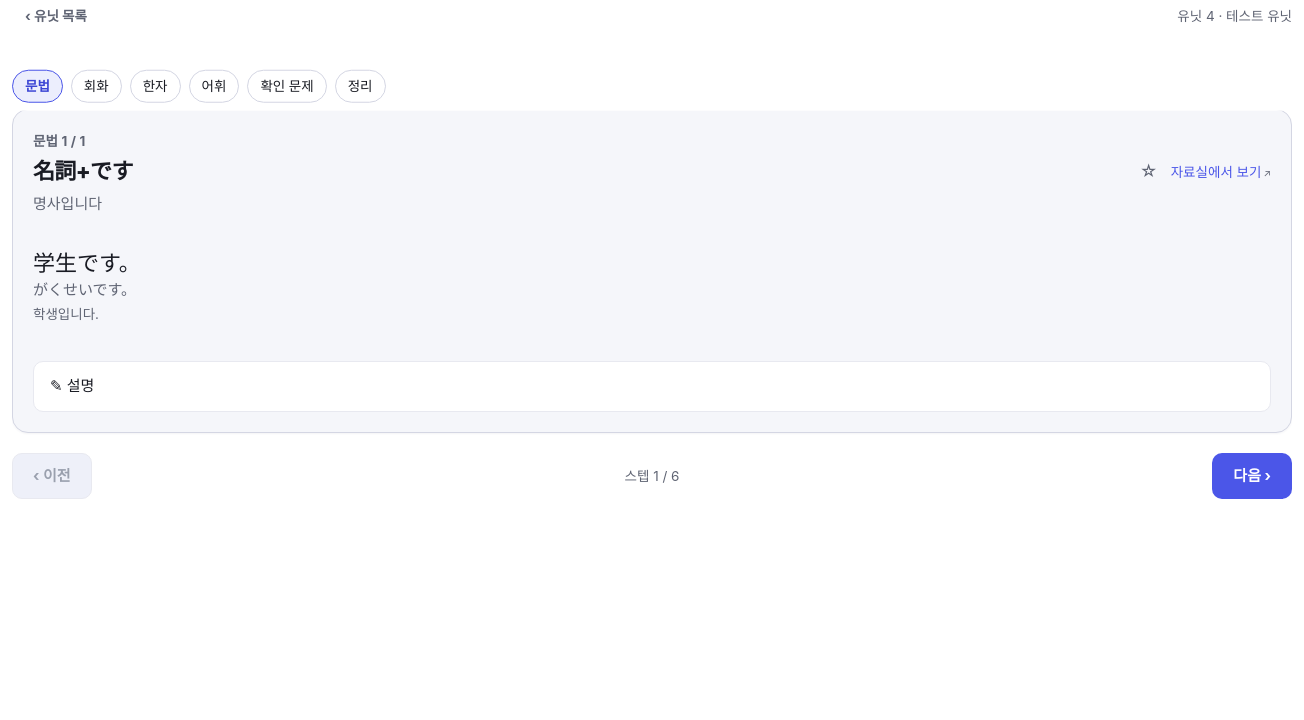
Scenario: [다음 ›]만 눌러서 확인 문제에 닿는다 (AC-Q-1 · AC-Q-4) › 1번 스텝에서 [다음 ›]만 누르면 확인 문제 시작 화면이 나온다
Expected: the button "정리" is shown, [335,70,386,102]
Click the button "다음 ›". click: point(1252, 476)
box: [1212,453,1292,499]
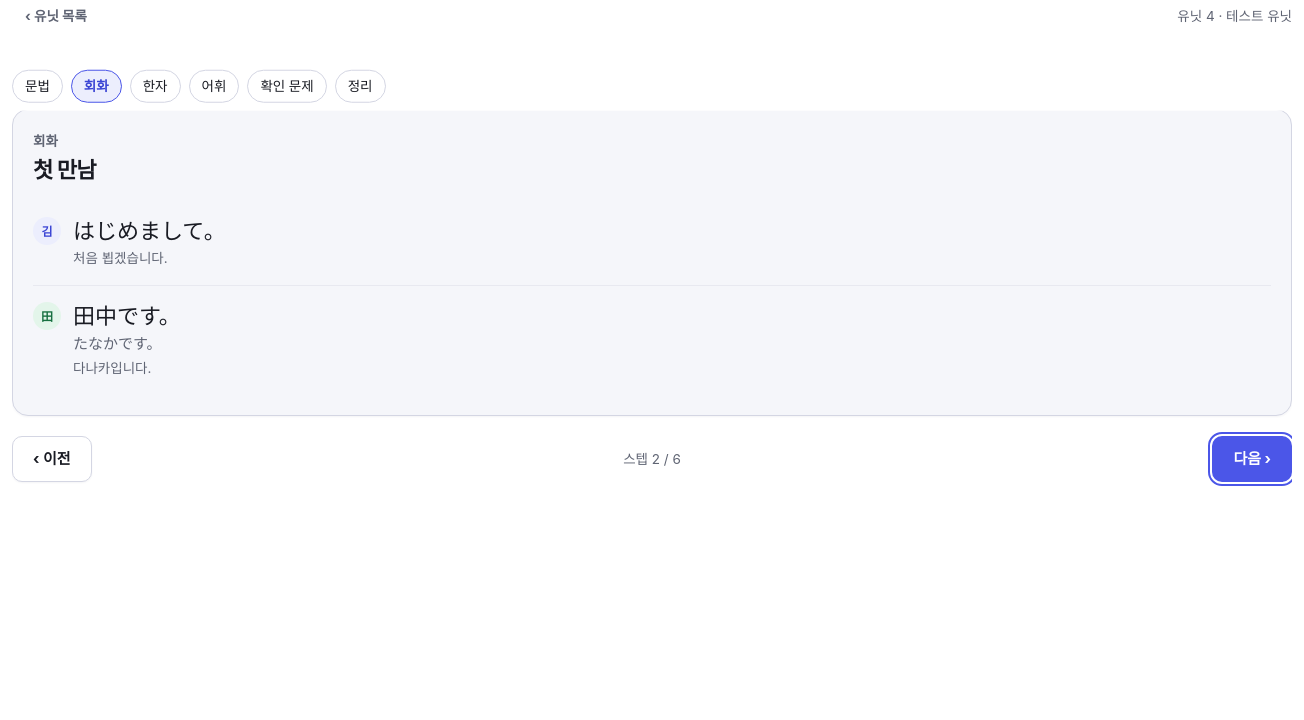
Click the button "다음 ›". click: point(1252, 459)
box: [1212,436,1292,482]
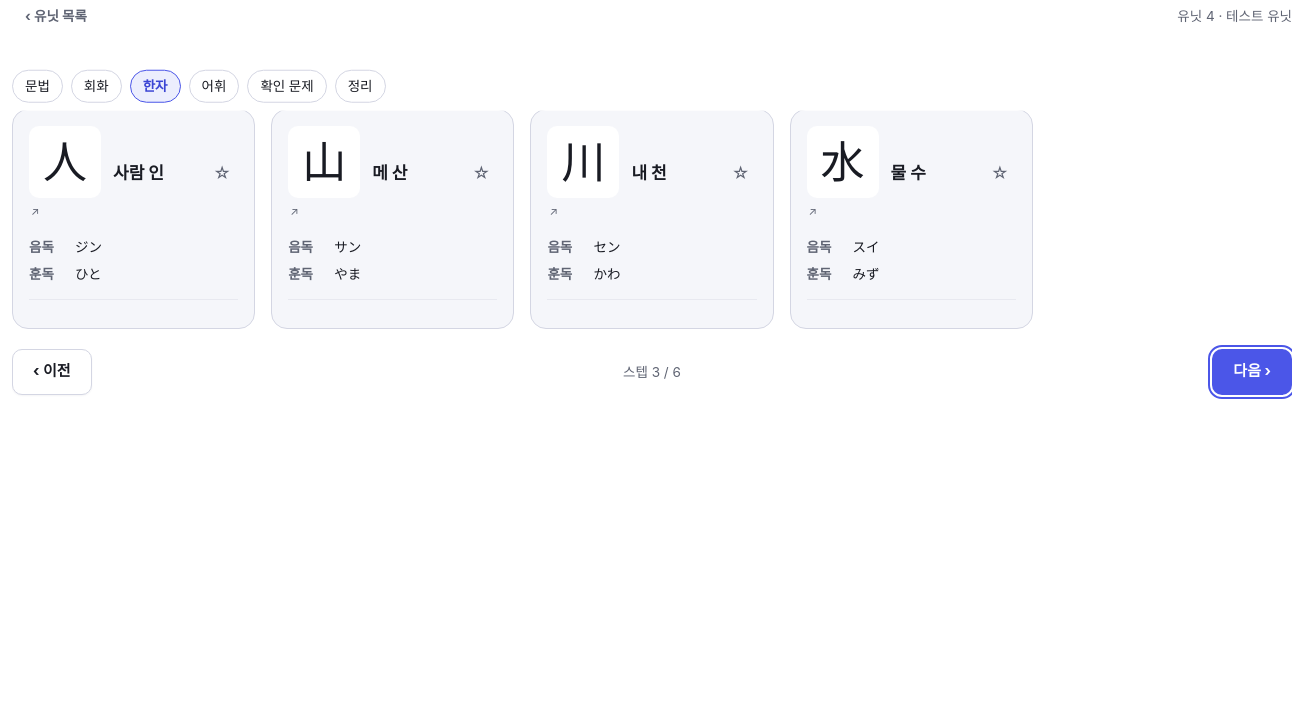
Click the button "다음 ›". click: point(1252, 372)
box: [1212,349,1292,395]
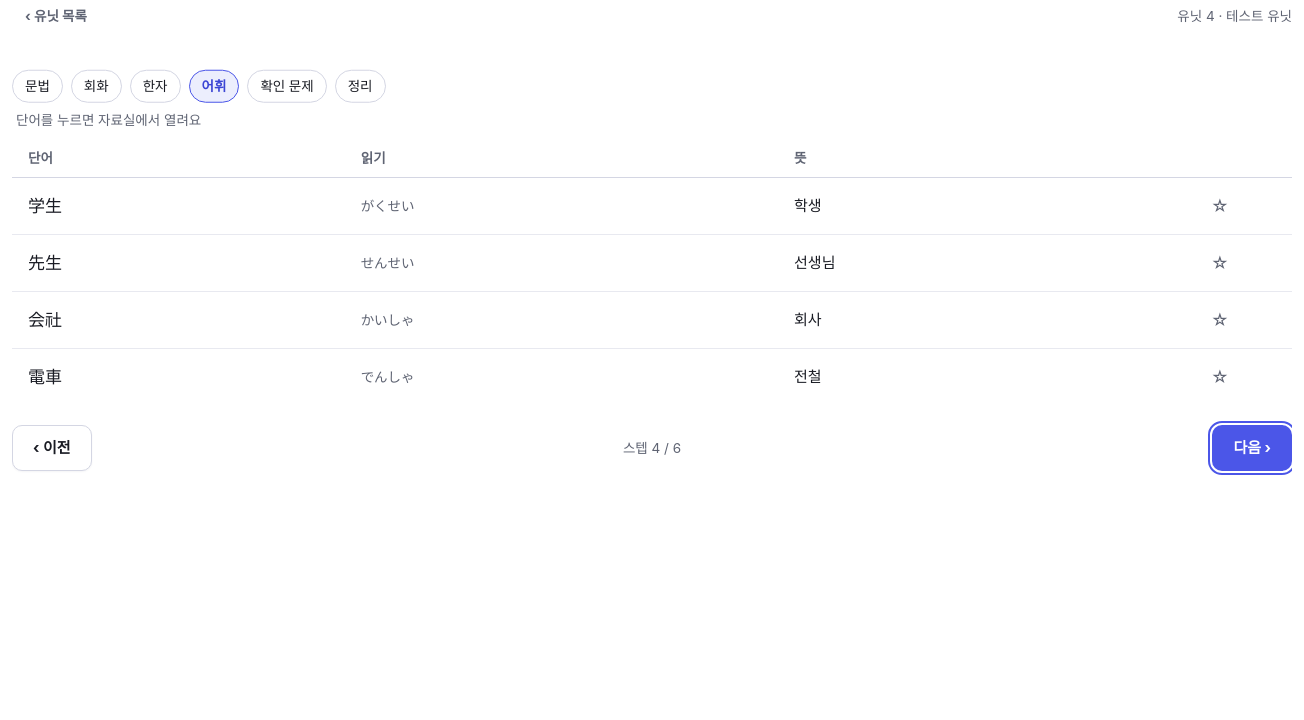
Click the button "다음 ›". click: point(1252, 448)
box: [1212,425,1292,471]
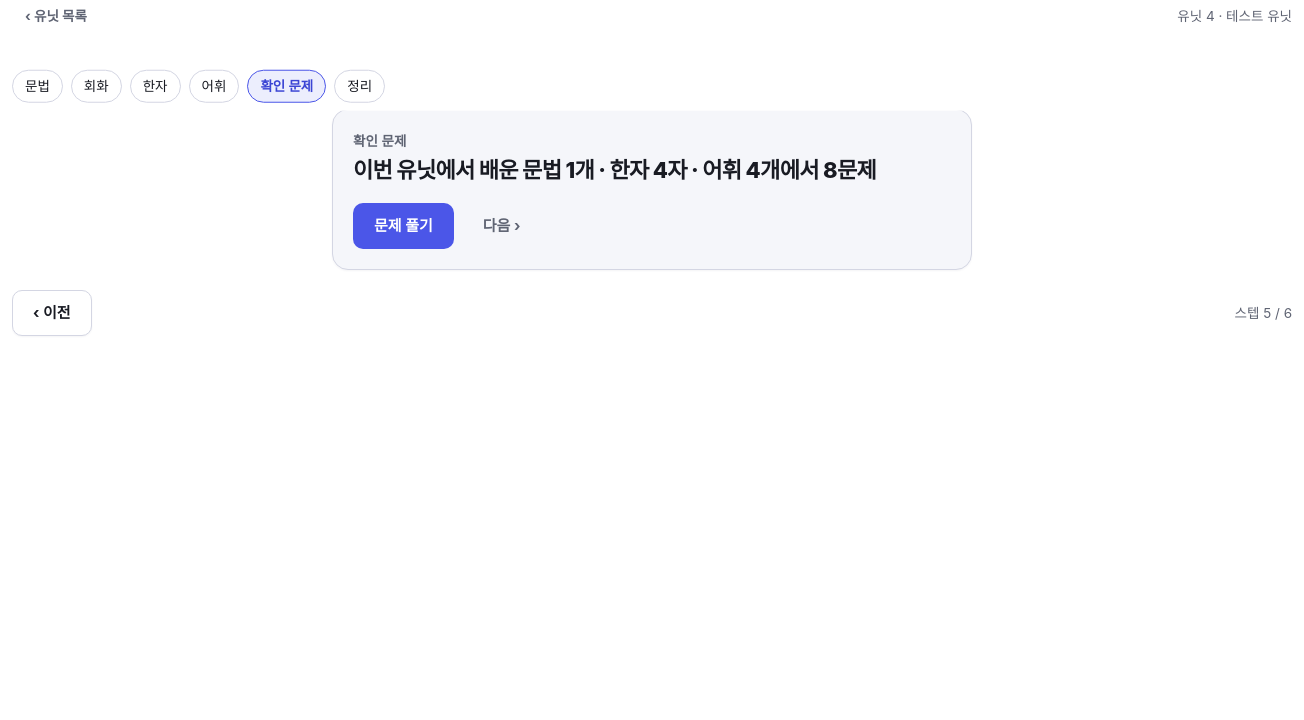
Now the text "스텝 5 / 6" is shown, box [1234,302,1292,325]
